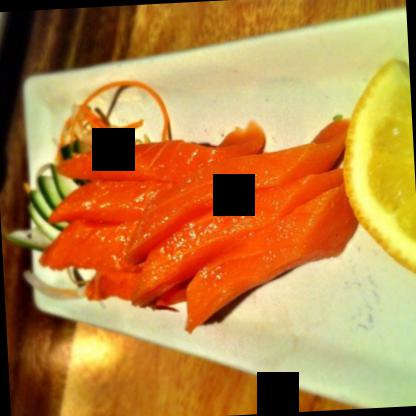salmon: (40, 122, 358, 334)
